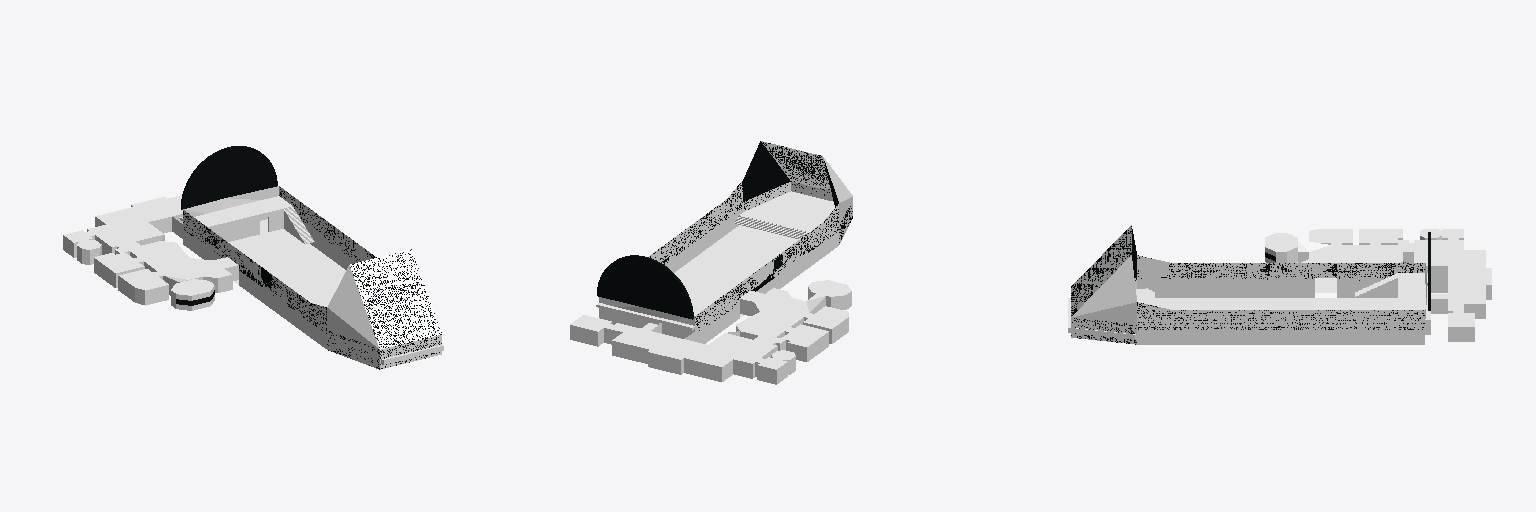
Rendered from GeoTest.obj.
3 renders of one model, left to right at view 1: azimuth 30°, elevation 25°; view 2: azimuth 150°, elevation 25°; view 3: azimuth 270°, elevation 25°, orthographic.
Parts seen in each view (by area): view 1: GeoTest; view 2: GeoTest; view 3: GeoTest.
Boxes of the visible parts, x1,y1,x2,y2 form: GeoTest: [63, 146, 443, 369]; GeoTest: [570, 141, 852, 384]; GeoTest: [1068, 225, 1491, 344].
Bounding box in the file's own units: 42 × 16.68 × 76.5.